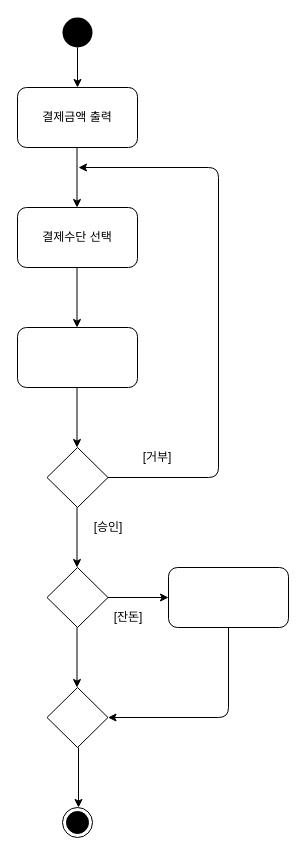
The diagram is 306 pixels wide and 855 high, and some of its shapes have lost their labels. The centre of each missing label's shape, as x and y in pixels:
결제: (x=77, y=357)
잔돈 반환: (x=228, y=597)
